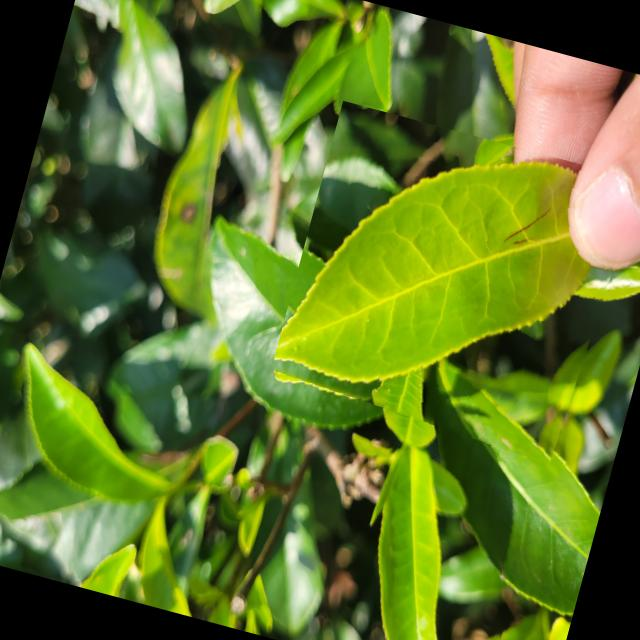Catagory A 1-2 days: (265, 100, 640, 468)
